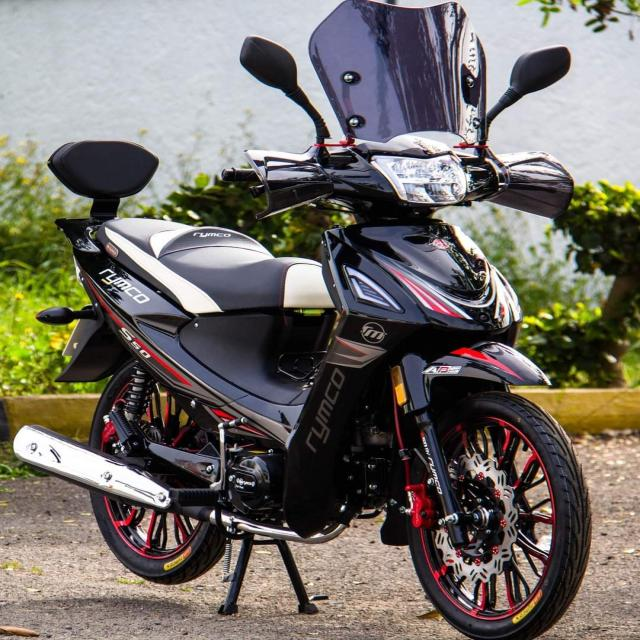Motorcycle: (12, 0, 591, 640)
